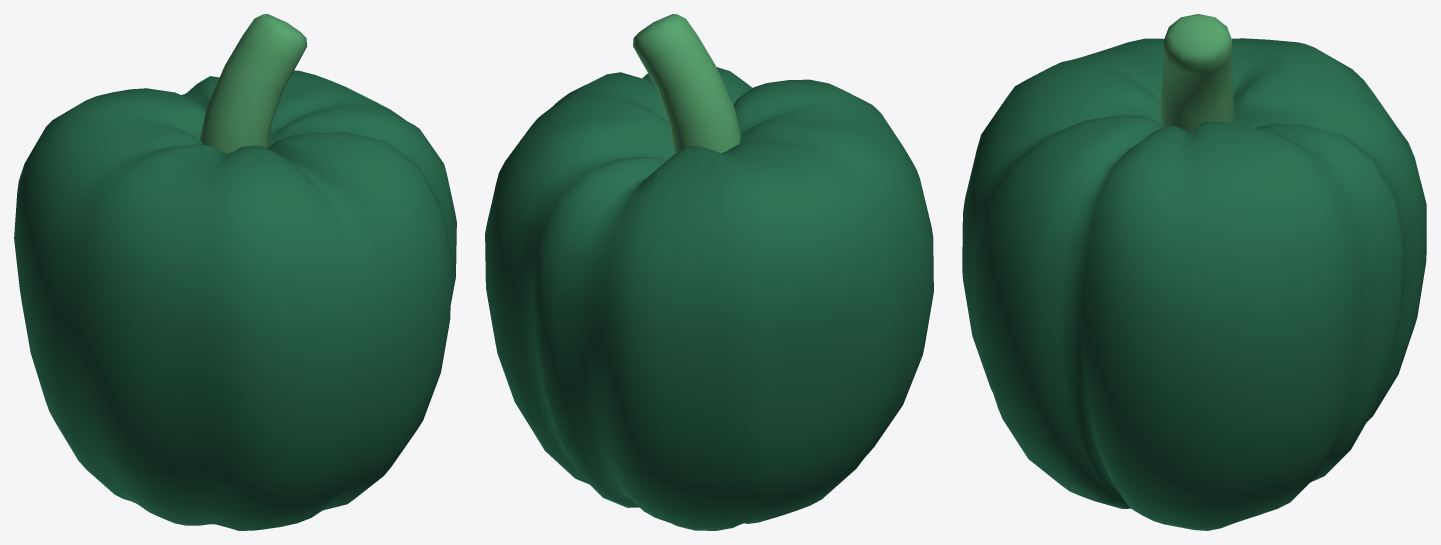
Rendered from Capsicum_03.dae.
3 views of the same model, side by side, from view 1: azimuth 30°, elevation 25°; view 2: azimuth 150°, elevation 25°; view 3: azimuth 270°, elevation 25° (orthographic). The views are drawn at different scales.
Visible parts, largest first — view 1: Capsicum_03_LOD0; view 2: Capsicum_03_LOD0; view 3: Capsicum_03_LOD0.
Boxes of the visible parts, x1,y1,x2,y2 form: Capsicum_03_LOD0: (14,14,456,530); Capsicum_03_LOD0: (485,14,933,530); Capsicum_03_LOD0: (962,14,1426,530).
Size of what is drawn, in the model's own units: 4.11 by 4.07 by 4.74.
